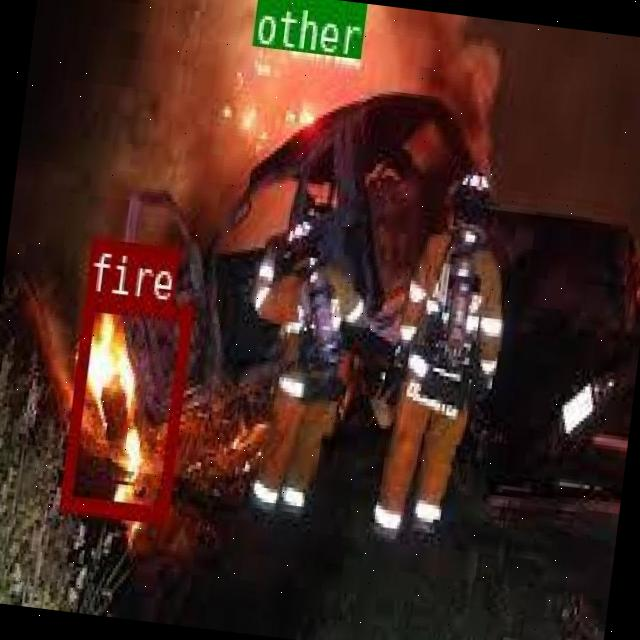fire: (58, 292, 190, 519)
